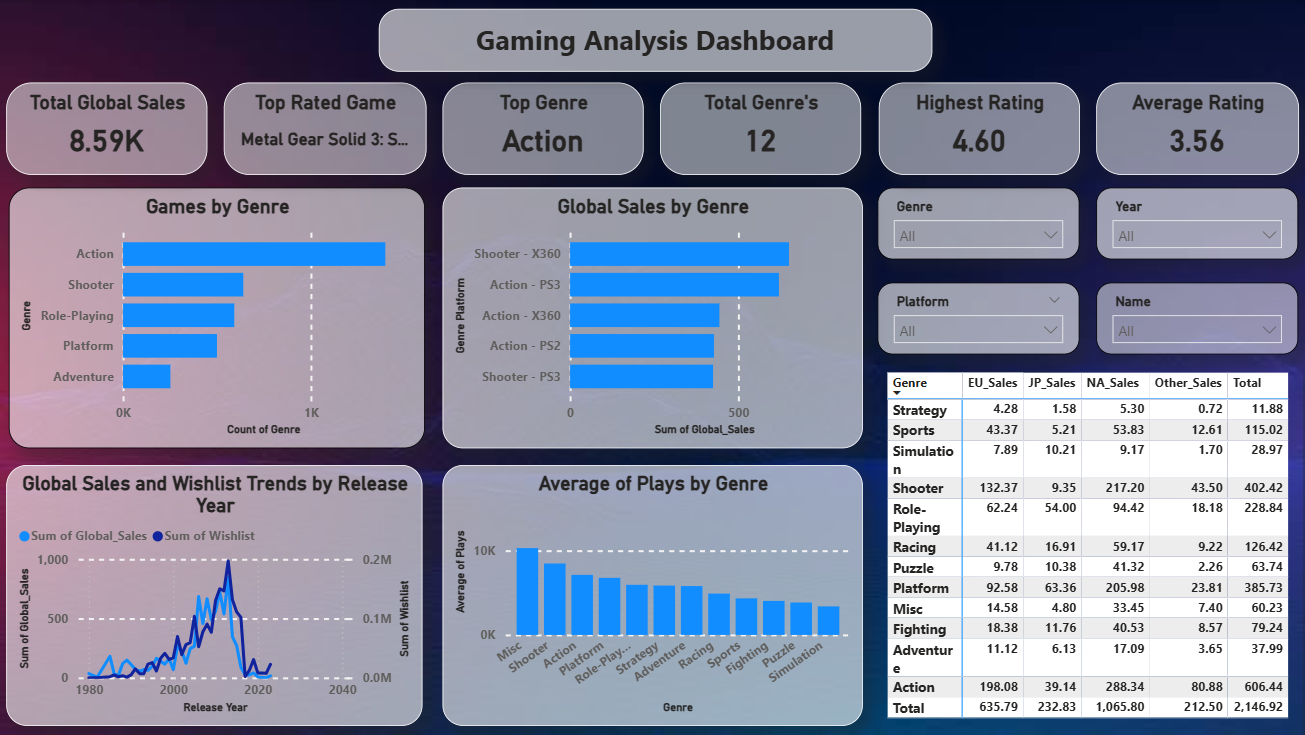

The dashboard page shown, as its layout file describes it:
{"tool":"powerbi","page":{"name":"Page 1","canvas":[1280,720],"ordinal":0},"visuals":[{"type":"image","box":[0,0,1280,720],"z":0},{"type":"clusteredBarChart","title":"Games by Genre","fields":{"Category":["Merged_VGSales_Games.Genre"],"Y":["CountNonNull(Merged_VGSales_Games.Genre)"]},"box":[8.8,183.8,407.5,255],"z":1000},{"type":"lineChart","title":"Global Sales and Wishlist Trends by Release Year","fields":{"Category":["Merged_VGSales_Games.Release Year"],"Y":["Sum(Merged_VGSales_Games.Global_Sales)"],"Y2":["Sum(Merged_VGSales_Games.Wishlist)"]},"box":[6.2,455,407.5,255],"z":2000},{"type":"card","title":"Total Global Sales","fields":{"Values":["Sum(Merged_VGSales_Games.Global_Sales)"]},"box":[5.8,80.2,197,90],"z":3000},{"type":"card","title":"Total Genre''s","fields":{"Values":["Count(Merged_VGSales_Games.Genre)"]},"box":[646.2,80.2,197,90],"z":4000},{"type":"card","title":"Top Genre","fields":{"Values":["Min(Merged_VGSales_Games.Genre)"]},"box":[433.1,80.2,197,90],"z":5000},{"type":"card","title":"Average Rating","fields":{"Values":["Avg(Merged_VGSales_Games.Rating)"]},"box":[1072.5,80.2,198,90],"z":6000},{"type":"slicer","fields":{"Values":["Merged_VGSales_Games.Platform"]},"box":[858.8,276.2,197.5,70],"z":7000},{"type":"slicer","fields":{"Values":["Merged_VGSales_Games.Genre"]},"box":[858.8,183.8,197.5,70],"z":8000},{"type":"slicer","fields":{"Values":["Merged_VGSales_Games.Year"]},"box":[1072.5,183.8,197.5,70],"z":9000},{"type":"pivotTable","fields":{"Rows":["Merged_VGSales_Games.Genre"],"Columns":["Merged_VGSales_Games.Region"],"Values":["Sum(Merged_VGSales_Games.Regional_Sales)"]},"box":[863.8,360,411.2,360],"z":10000},{"type":"card","title":"Highest Rating","fields":{"Values":["Merged_VGSales_Games.Highest Rating"]},"box":[859.4,80.2,197,90],"z":11000},{"type":"card","title":"Top Rated Game","fields":{"Values":["Merged_VGSales_Games.Top Rated Game"]},"box":[218.9,80.2,198,90],"z":12000},{"type":"clusteredBarChart","title":"Global Sales by Genre","fields":{"Category":["Merged_VGSales_Games.Genre Platform"],"Y":["Sum(Merged_VGSales_Games.Global_Sales)"]},"box":[432.5,183.8,411.2,255],"z":13000},{"type":"clusteredColumnChart","fields":{"Category":["Merged_VGSales_Games.Genre"],"Y":["Avg(Merged_VGSales_Games.Plays)"]},"box":[432.5,455,411.2,255],"z":14000},{"type":"textbox","box":[370,8.8,541.2,61.2],"z":15000},{"type":"slicer","fields":{"Values":["Merged_VGSales_Games.Name"]},"box":[1072.5,276.2,197.5,70],"z":16000}]}

Visuals, with their boxes in screenshot pixels (x1, y1, x2, y2), scaled from the page's 1280x720 canvas onto the 1305x735 screenshot:
image: select_region(0, 0, 1304, 734)
"Games by Genre" clusteredBarChart: select_region(9, 188, 424, 448)
"Global Sales and Wishlist Trends by Release Year" lineChart: select_region(6, 464, 422, 725)
"Total Global Sales" card: select_region(6, 82, 207, 174)
"Total Genre''s" card: select_region(659, 82, 860, 174)
"Top Genre" card: select_region(442, 82, 642, 174)
"Average Rating" card: select_region(1093, 82, 1295, 174)
slicer - Merged_VGSales_Games.Platform: select_region(876, 282, 1077, 353)
slicer - Merged_VGSales_Games.Genre: select_region(876, 188, 1077, 259)
slicer - Merged_VGSales_Games.Year: select_region(1093, 188, 1295, 259)
pivotTable - Merged_VGSales_Games.Genre x Merged_VGSales_Games.Region: select_region(881, 368, 1300, 734)
"Highest Rating" card: select_region(876, 82, 1077, 174)
"Top Rated Game" card: select_region(223, 82, 425, 174)
"Global Sales by Genre" clusteredBarChart: select_region(441, 188, 860, 448)
clusteredColumnChart - Merged_VGSales_Games.Genre x Avg(Merged_VGSales_Games.Plays): select_region(441, 464, 860, 725)
textbox: select_region(377, 9, 929, 71)
slicer - Merged_VGSales_Games.Name: select_region(1093, 282, 1295, 353)
